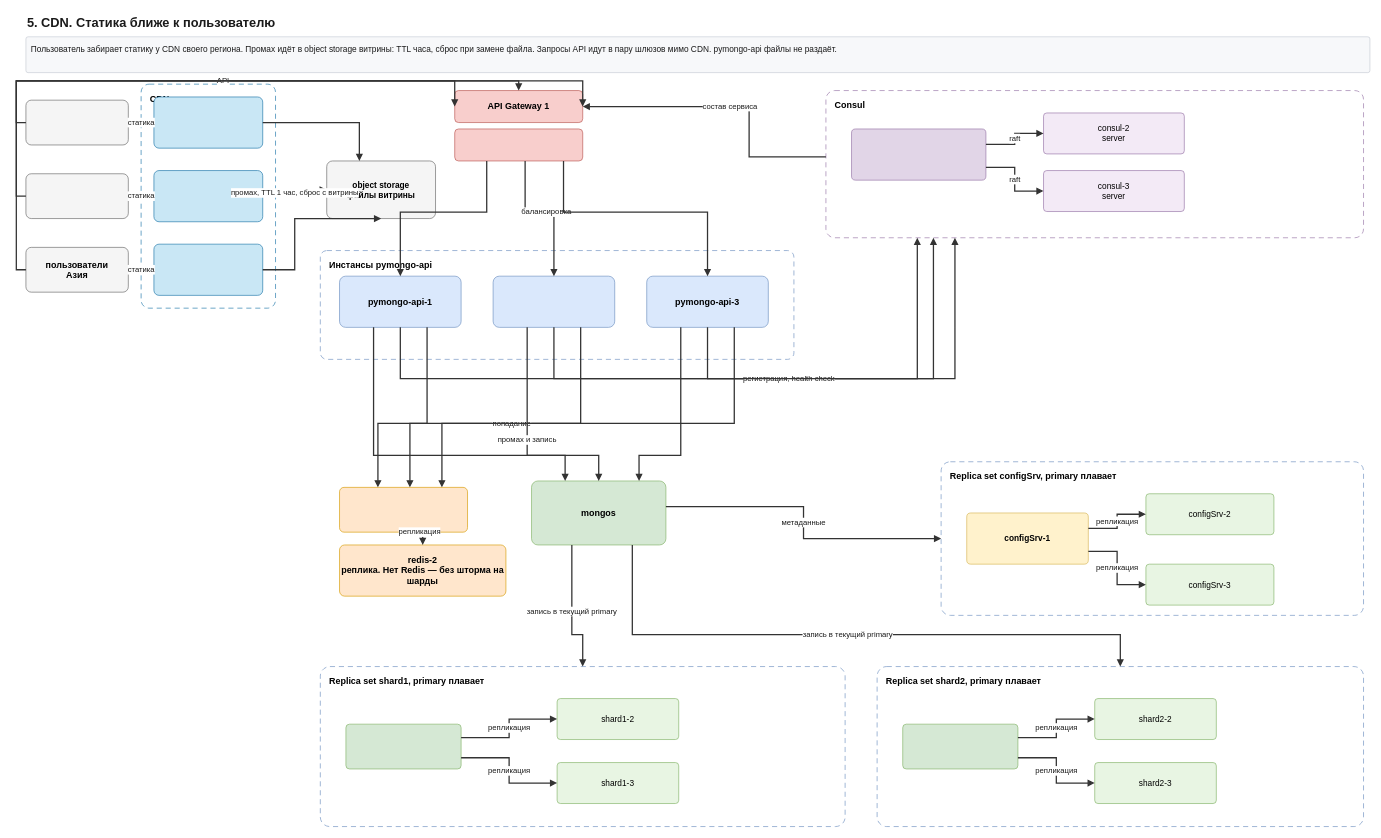
This 1381x838 diagram has some shape labels left out. Each missing label, with the centre of its shape:
"API Gateway 2" goes at point 518,144.
"CDN Азия" goes at point 208,269.
"CDN Европа" goes at point 208,196.
"CDN Россия" goes at point 208,122.
"consul-1 server" goes at point 918,154.
"pymongo-api-2" goes at point 553,301.
"redis-1 кеш" goes at point 403,509.
"shard1-1" goes at point 403,746.
"shard2-1" goes at point 960,746.
"пользователи Европа" goes at point 76,196.
"пользователи Россия" goes at point 76,122.
